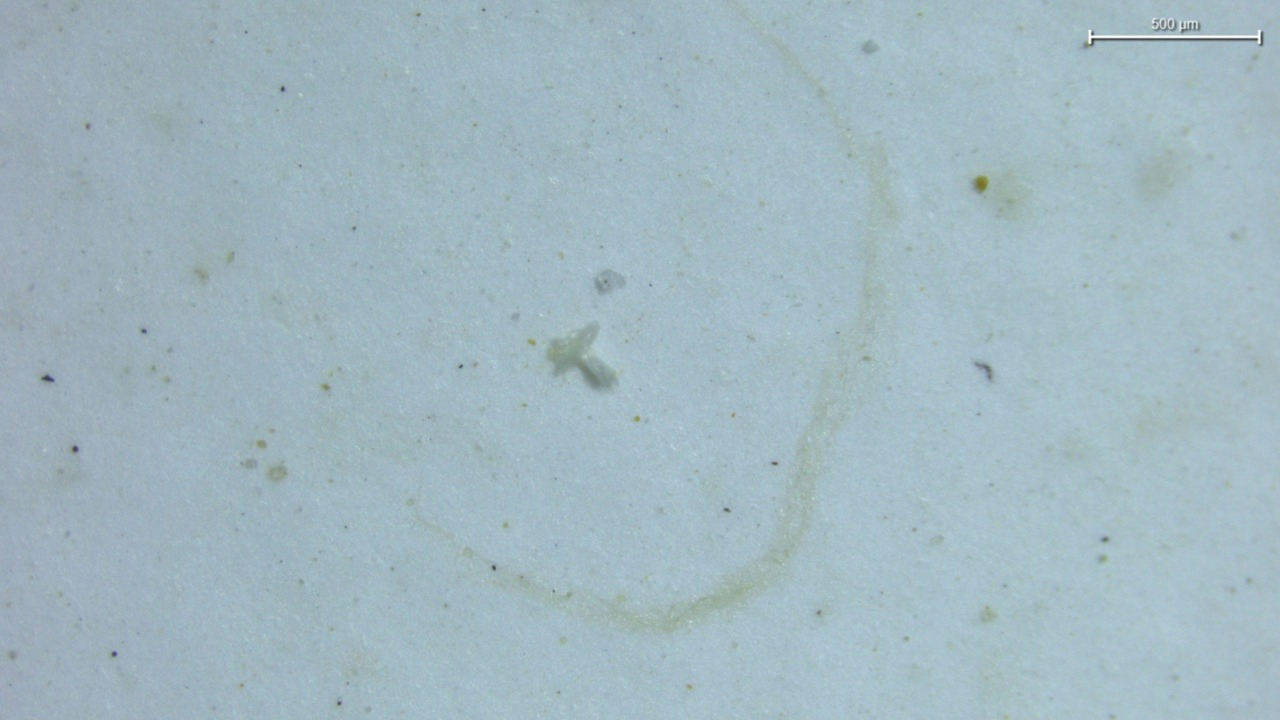microplastic_fragment: (547, 323, 617, 390), (594, 269, 625, 294)
